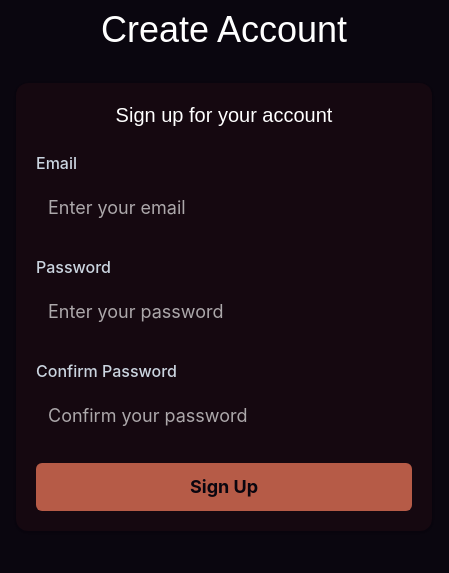
SignUp Component › validates password confirmation match
In the field labelled "Email": (224, 207) [36,183,412,231], type "test@example.com"
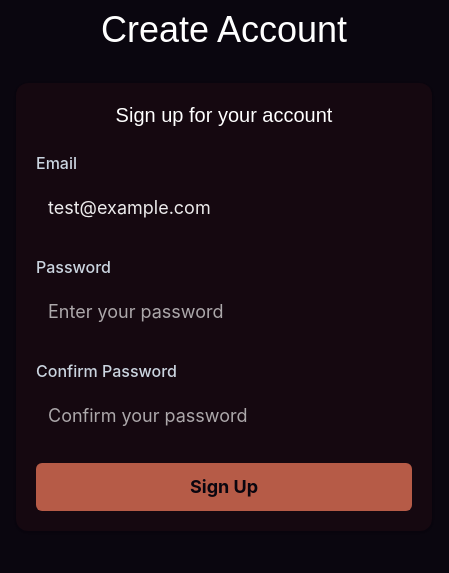
In the password field labelled "Password": (224, 311) [36,287,412,335], type "ValidPass123"
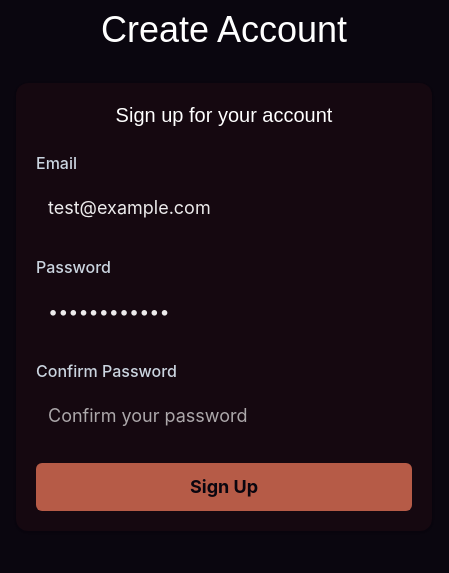
In the password field labelled "Confirm Password": (224, 415) [36,391,412,439], type "DifferentPass123"
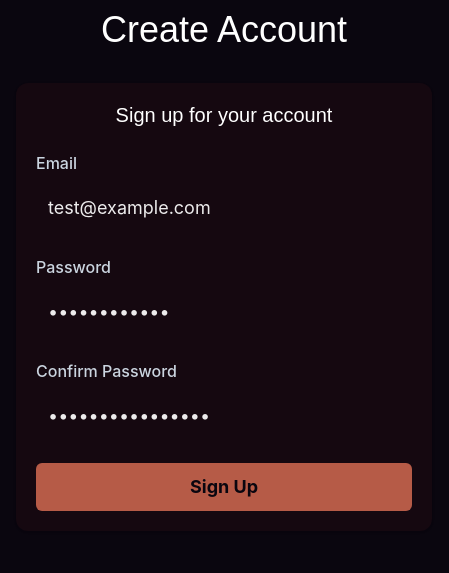
Click the button "Sign Up": click(224, 487) [36,463,412,511]
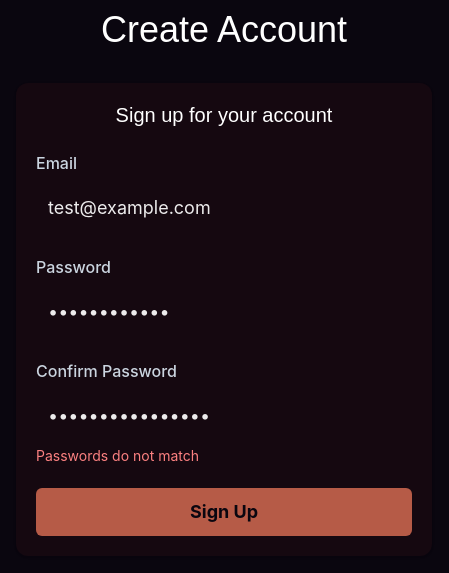
Check: the text "Passwords do not match" is shown, box [36,447,199,464]
